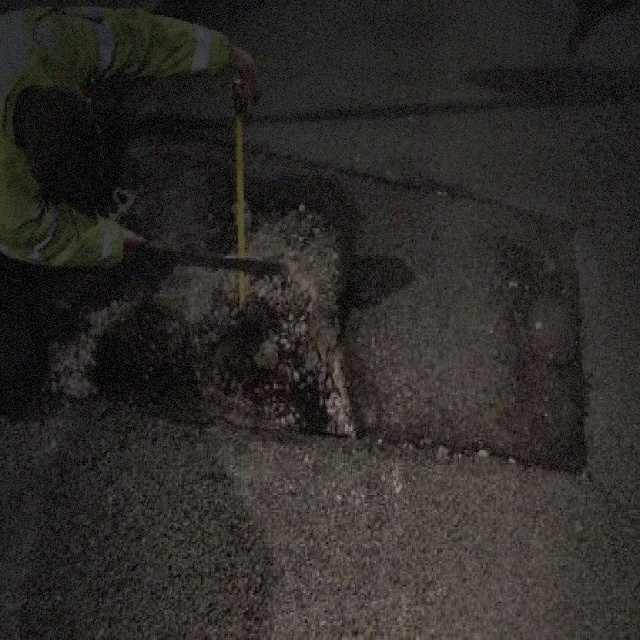pothole: (212, 171, 366, 446)
